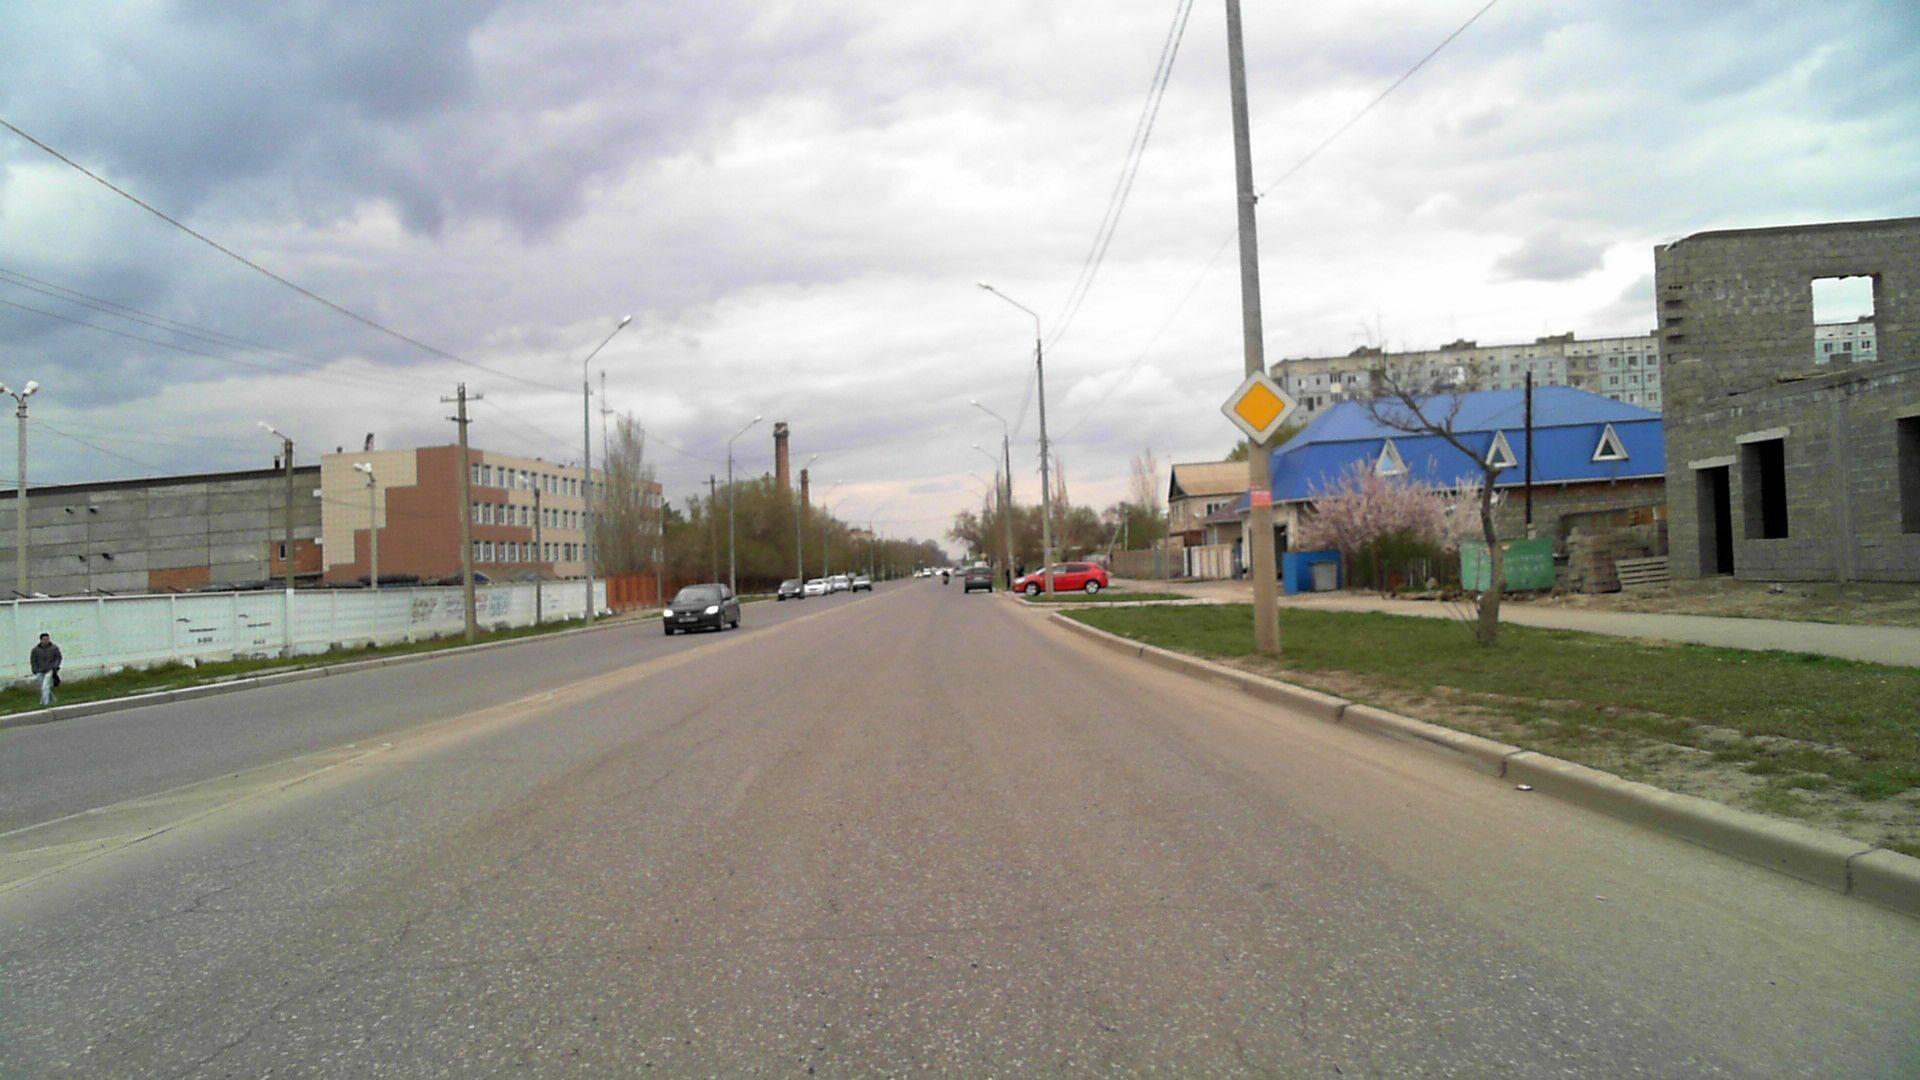2_1: (1220, 364, 1304, 448)
